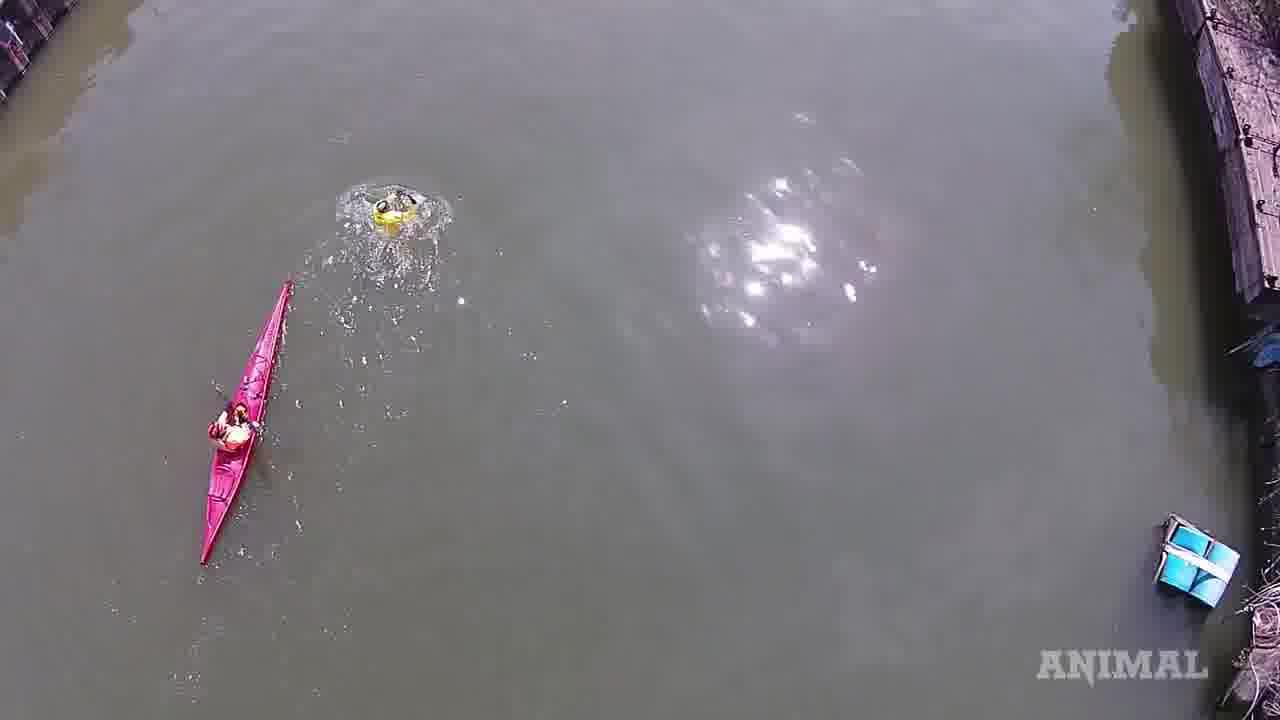swimmer: (366, 177, 431, 253)
